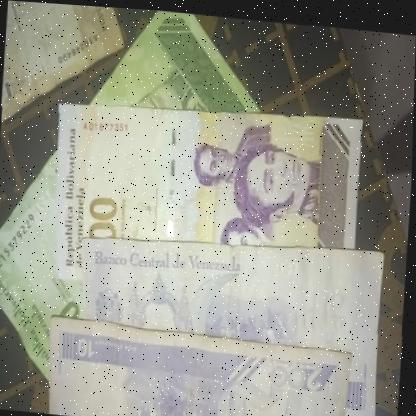fifty-front-vef: (0, 0, 269, 395)
five-front-vef: (0, 0, 125, 133)
ten-back-vef: (79, 222, 395, 416), (46, 313, 351, 416)
two_hundred-front-vef: (49, 86, 365, 304)
